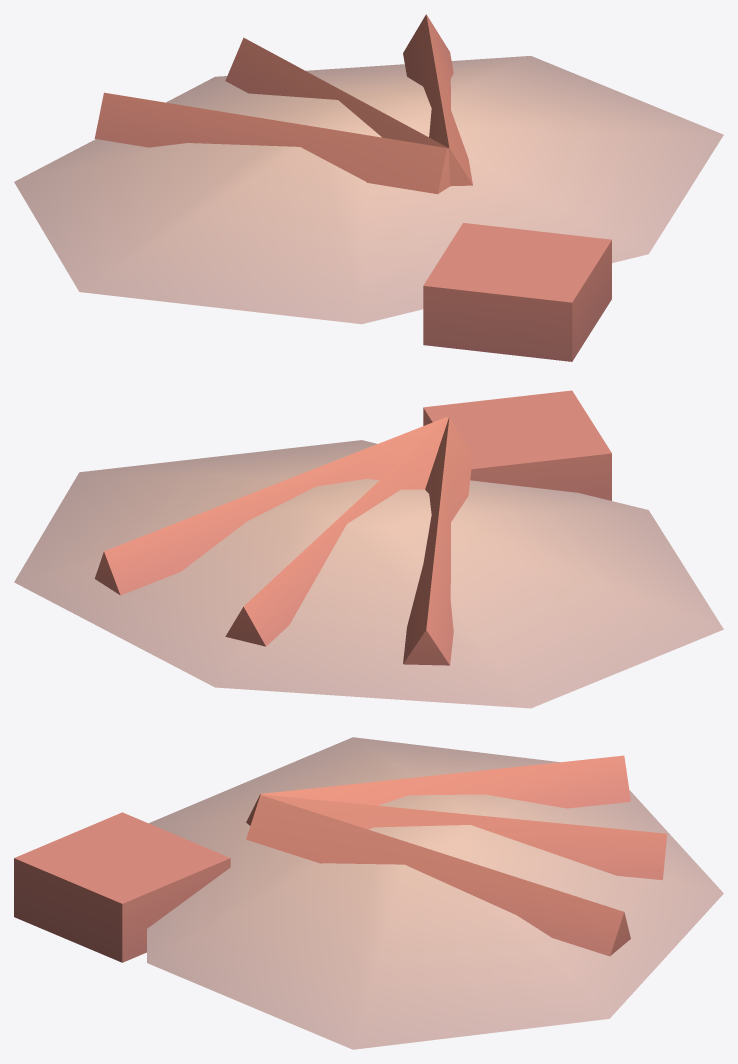
Rendered from tiny_shell.glb.
3 renders of one model, top to bottom at view 1: azimuth 30°, elevation 25°; view 2: azimuth 150°, elevation 25°; view 3: azimuth 270°, elevation 25°, orthographic.
Visible parts, largest first — view 1: tiny_shell; view 2: tiny_shell; view 3: tiny_shell.
Boxes of the visible parts, x1=… form: tiny_shell: x1=14, y1=14, x2=723, y2=361; tiny_shell: x1=14, y1=390, x2=723, y2=708; tiny_shell: x1=14, y1=737, x2=723, y2=1049.
Size of the model in its own units: 0.1365 by 0.025 by 0.131.
